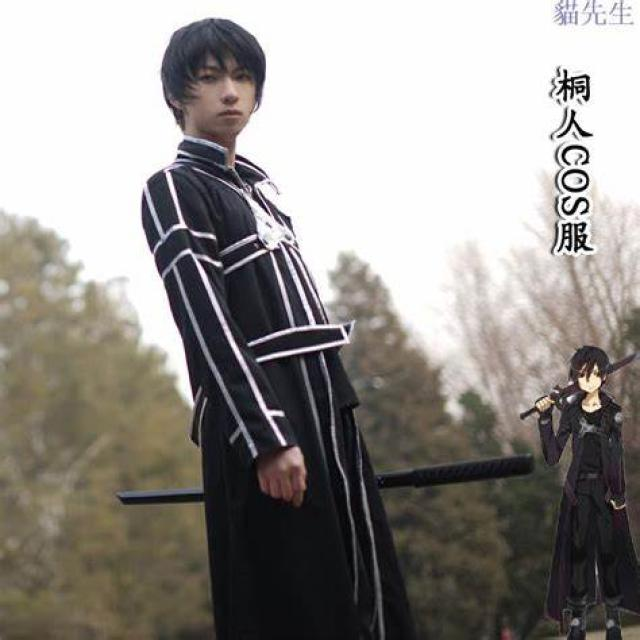stand: (139, 4, 438, 640)
